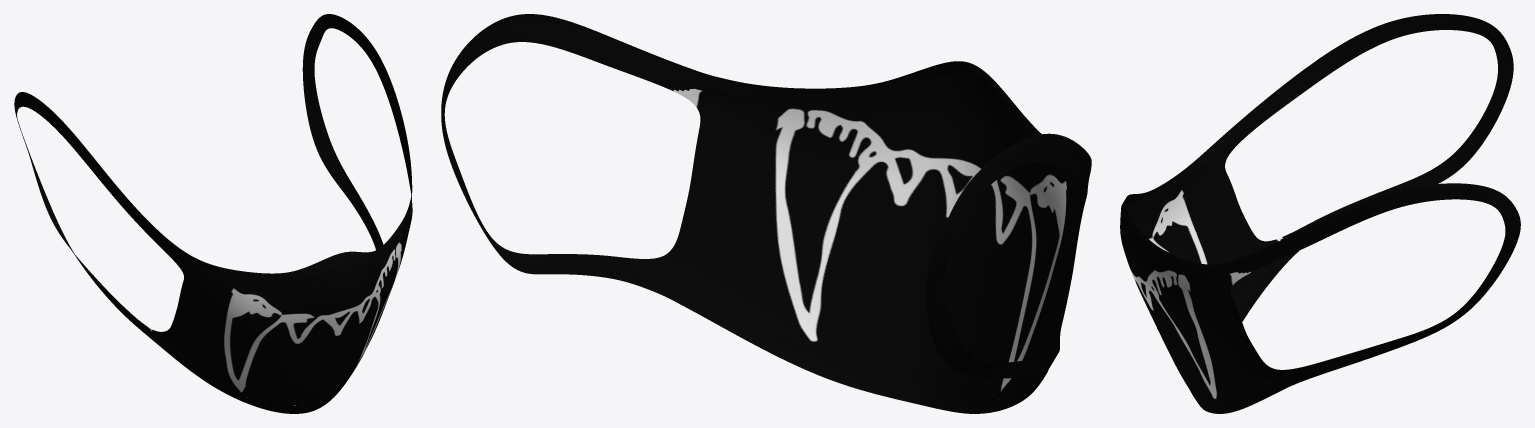
Rendered from vampire.glb.
3 views of the same model, side by side, from view 1: azimuth 30°, elevation 25°; view 2: azimuth 150°, elevation 25°; view 3: azimuth 270°, elevation 25° (orthographic). The views are drawn at different scales.
Parts seen in each view (by area): view 1: MaskTexture, MaskSide; view 2: MaskTexture, MaskSide; view 3: MaskSide, MaskTexture.
Boxes of the visible parts, left/top/right/bottom form: MaskTexture: left=148, top=190, right=412, bottom=405; MaskSide: left=14, top=14, right=412, bottom=413; MaskTexture: left=660, top=86, right=1087, bottom=399; MaskSide: left=441, top=14, right=1091, bottom=413; MaskSide: left=1120, top=14, right=1520, bottom=413; MaskTexture: left=1120, top=143, right=1282, bottom=405.
Bounding box in the file's own units: 8.61 × 7.1 × 8.57.
Materials: 2 (1 with a texture image).
